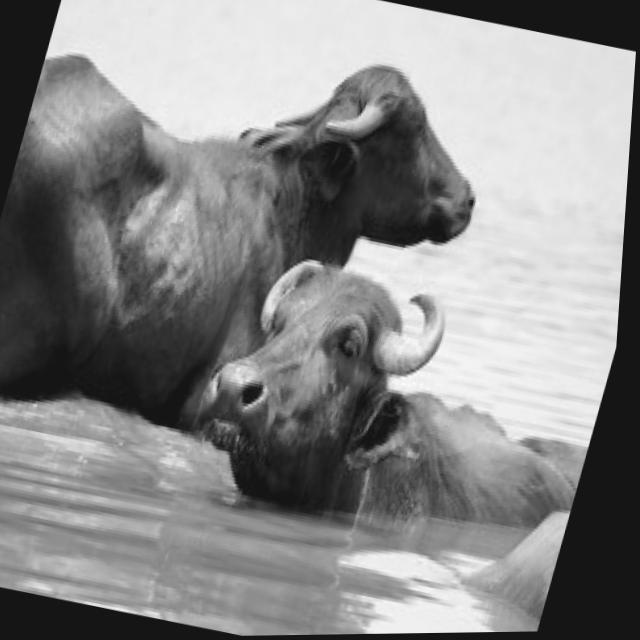Buffalo: (0, 0, 531, 301), (146, 229, 624, 552)
